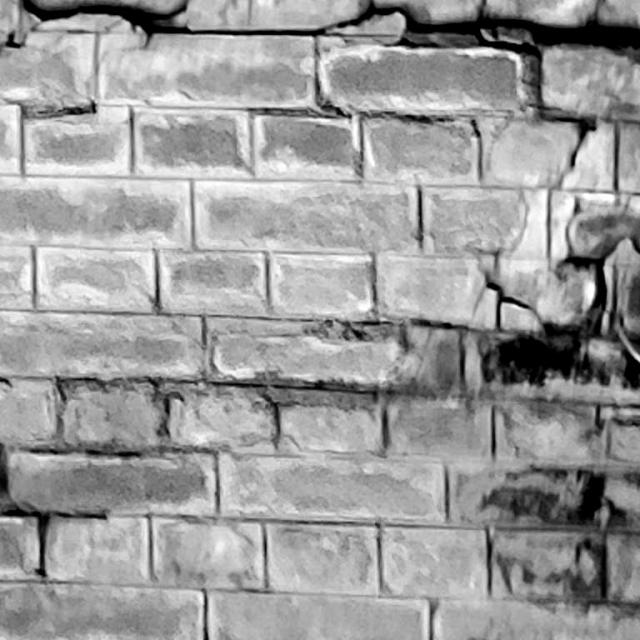crack: (1, 1, 640, 61), (486, 117, 607, 335)
